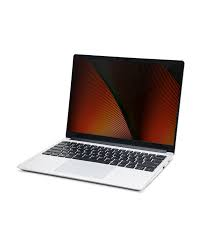laptop: (18, 44, 185, 192)
